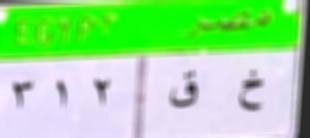1: (50, 73, 73, 115)
2: (89, 73, 116, 111)
3: (8, 73, 37, 117)
khaa: (233, 62, 269, 112)
qaaf: (167, 67, 202, 115)
